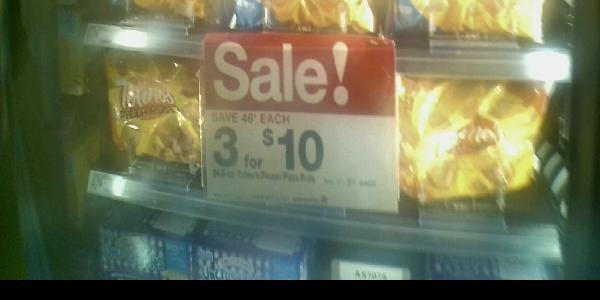icecream: (398, 77, 554, 202), (99, 54, 197, 170)
